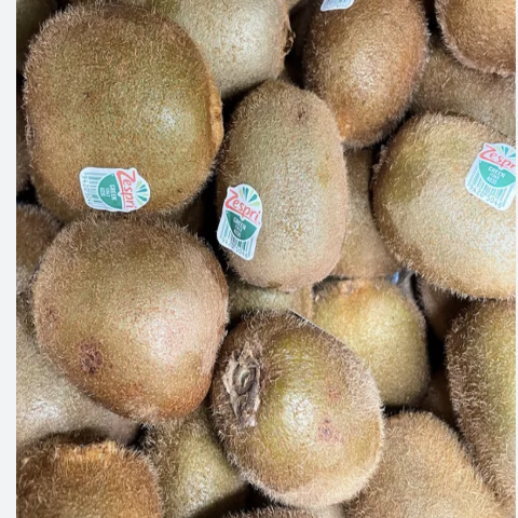kiwi: (19, 1, 240, 239), (28, 192, 248, 425), (174, 317, 414, 509), (209, 75, 370, 314), (372, 88, 517, 306)
